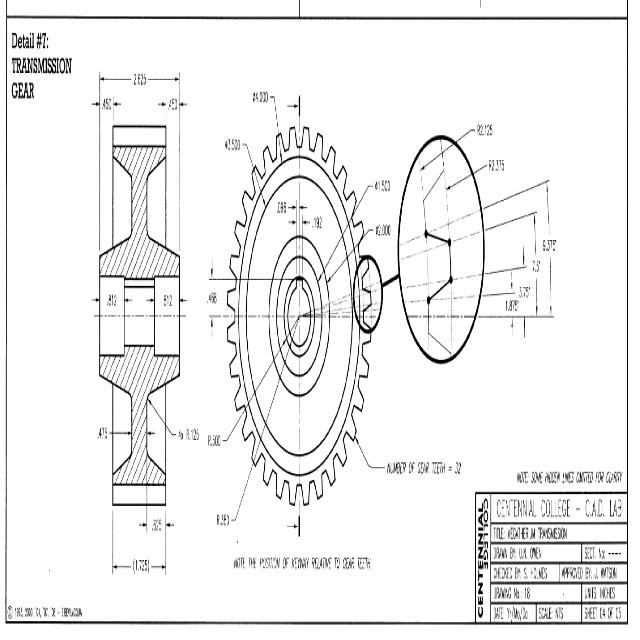Detail view: (398, 76, 571, 387)
Sectional view: (91, 67, 200, 584)
Table 1: (475, 488, 629, 625)
Top view: (204, 71, 394, 535)
text1: (231, 554, 375, 574)
text2: (12, 32, 72, 108)
text3: (7, 597, 84, 624)
text4: (384, 455, 469, 474)
text5: (512, 452, 625, 487)
